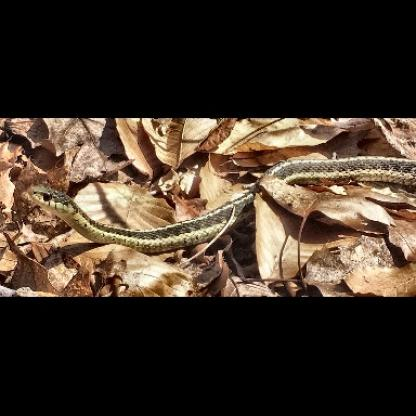Snake: (22, 156, 404, 248)
